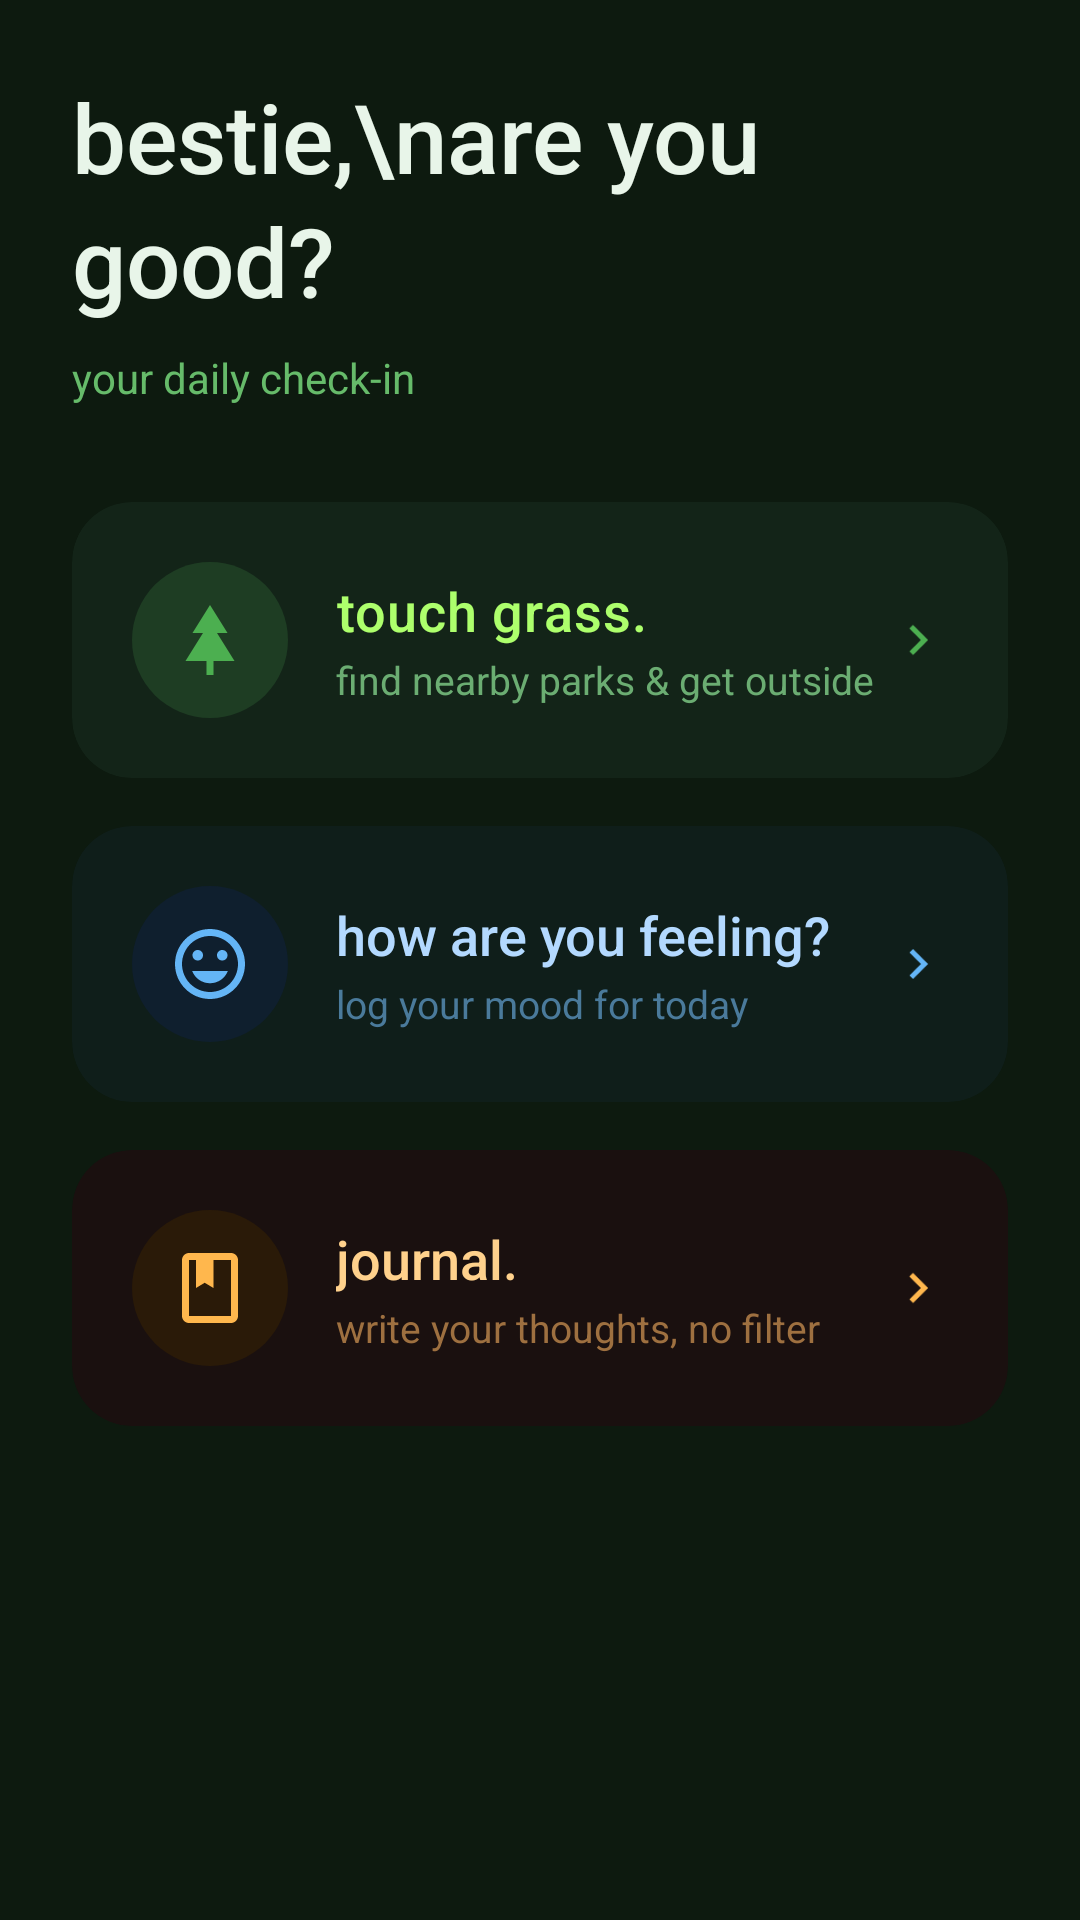

Icons on this 1080*1920 Android screen, each with its box as (x1, y1, x2, y2):
Open journal: (909, 1273, 928, 1303)
Open mood log: (909, 949, 928, 979)
Open touch grass feature: (909, 625, 928, 655)
Park icon: (186, 605, 234, 675)
